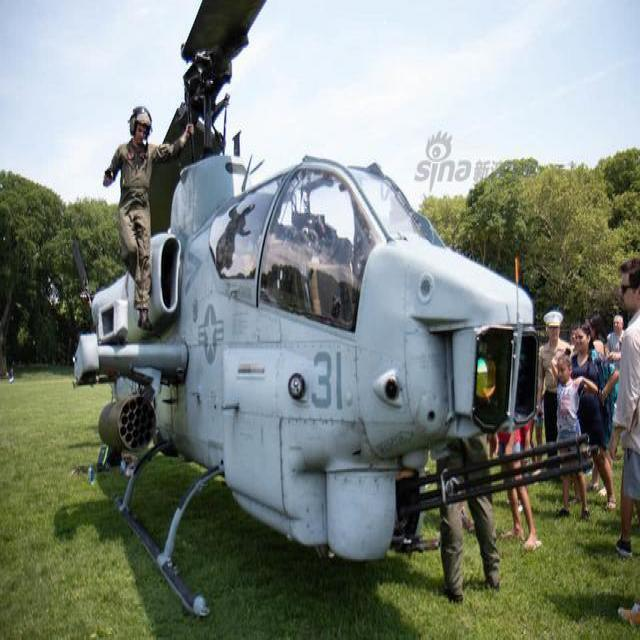MIL_HELO: (52, 0, 543, 622)
